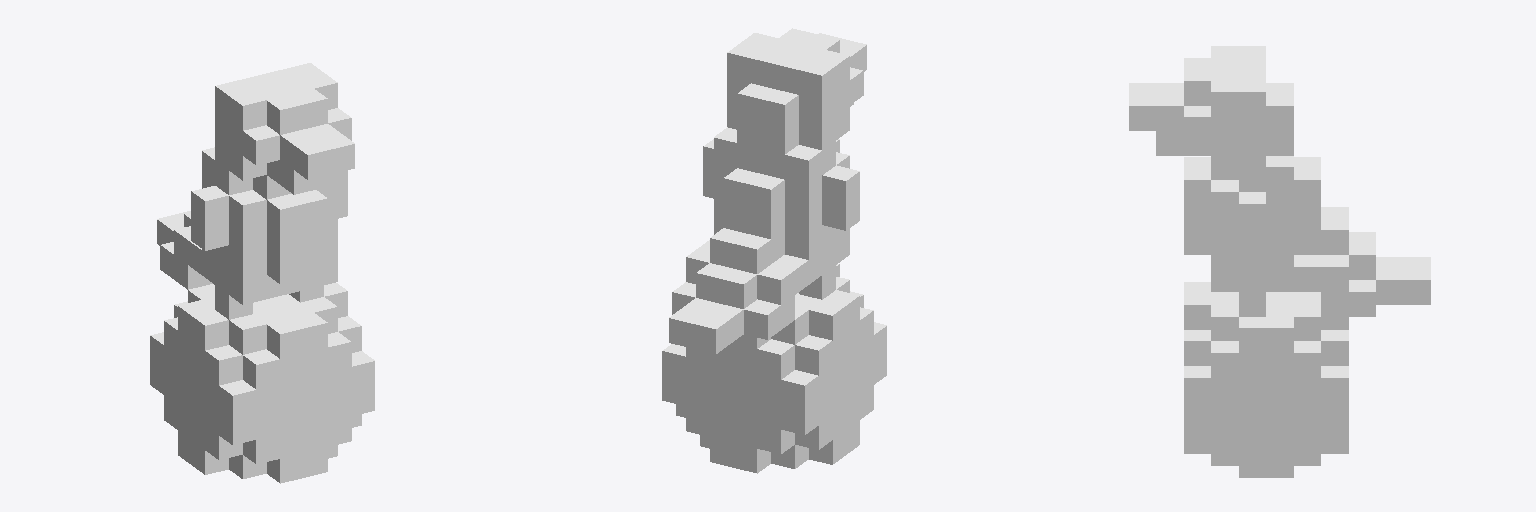
File: Footbool.obj
3 renders of one model, left to right at view 1: azimuth 30°, elevation 25°; view 2: azimuth 150°, elevation 25°; view 3: azimuth 270°, elevation 25°, orthographic.
Visible parts, largest first — view 1: object 1; view 2: object 1; view 3: object 1.
Boxes of the visible parts, box(x1,y1,x2,y2) form: object 1: box(150, 63, 374, 483); object 1: box(662, 28, 886, 473); object 1: box(1129, 46, 1430, 477).
Bounding box in the file's own units: 0.6 × 1.5 × 1.1.